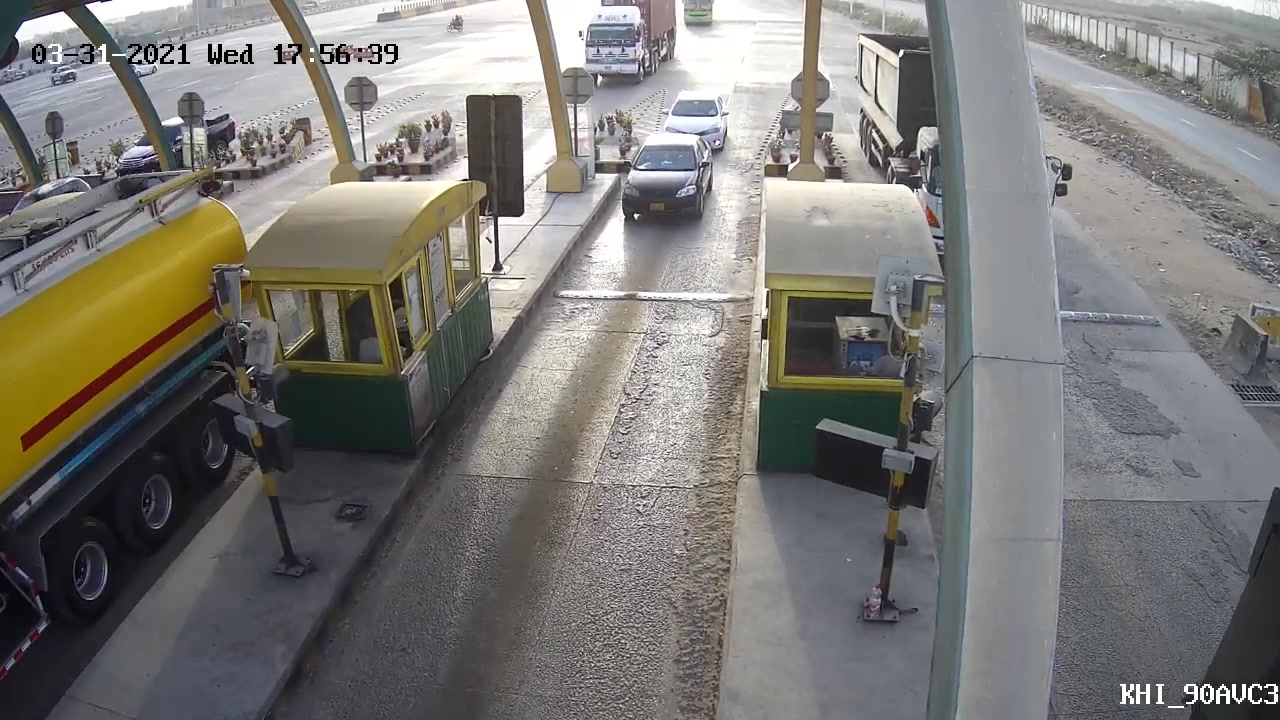F1: (614, 131, 716, 227)
